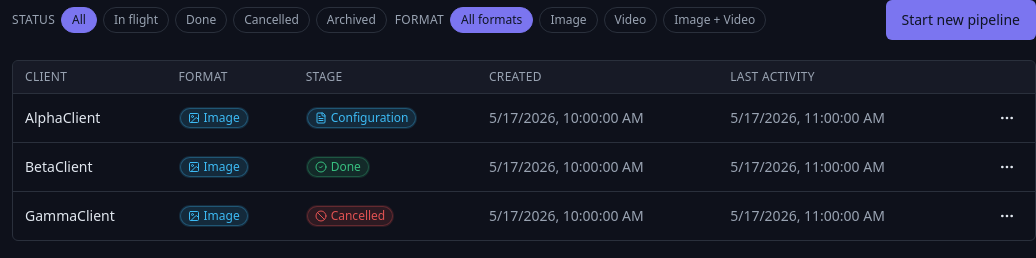
Test: PipelineList › status chips filter rows
The image size is (1036, 258).
Expected: the link "AlphaClient" is shown, [25, 108, 100, 127]
Step 1. Click the button "Done" → (201,20), box [175, 7, 227, 33]
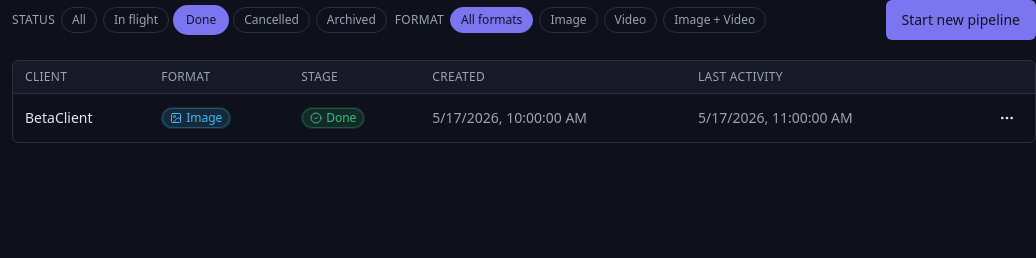
Expected: the link "BetaClient" is shown, [25, 108, 93, 127]
Result: the link "AlphaClient" is gone
Step 2. Click the button "Cancelled" → (272,20), box [233, 7, 310, 33]
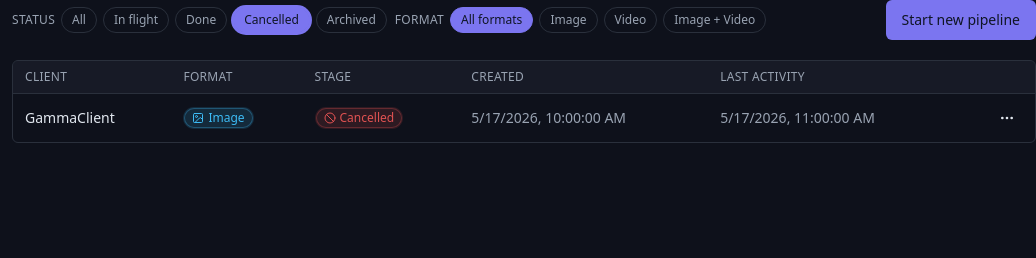
Result: the link "GammaClient" is shown at [25, 108, 115, 127]
Result: the link "BetaClient" is gone
Step 3. Click the button "In flight" → (136,20), box [103, 7, 169, 33]
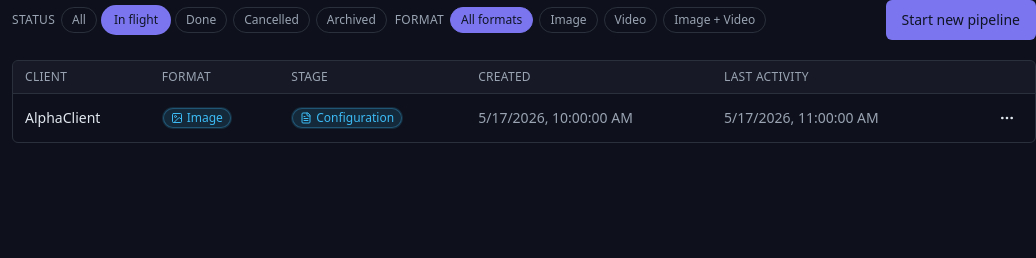
Result: the link "AlphaClient" is shown at [25, 108, 100, 127]
